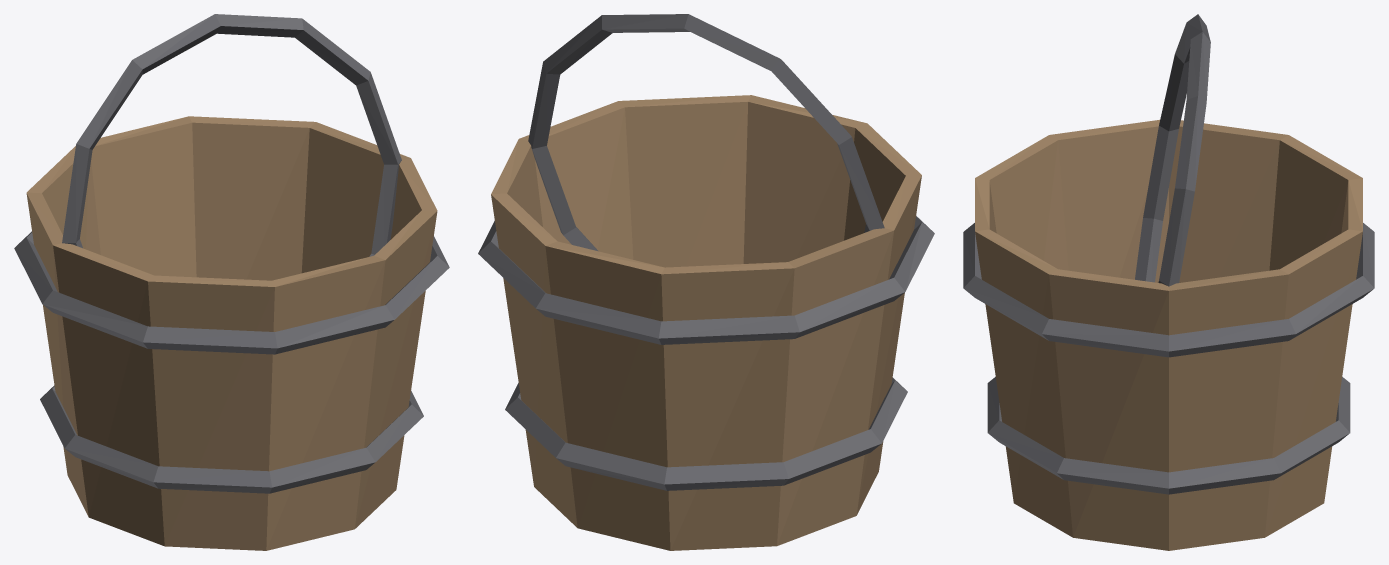
File: bucket.glb
3 views of the same model, side by side, from view 1: azimuth 30°, elevation 25°; view 2: azimuth 150°, elevation 25°; view 3: azimuth 270°, elevation 25° (orthographic). The views are drawn at different scales.
Parts seen in each view (by area): view 1: bucket; view 2: bucket; view 3: bucket.
Part boxes in pixels (x1,y1,x2,y2): bucket: (14,14,449,550); bucket: (478,14,934,550); bucket: (963,14,1374,550).
Size of the model in its own units: 0.424 by 0.4871 by 0.4032.
